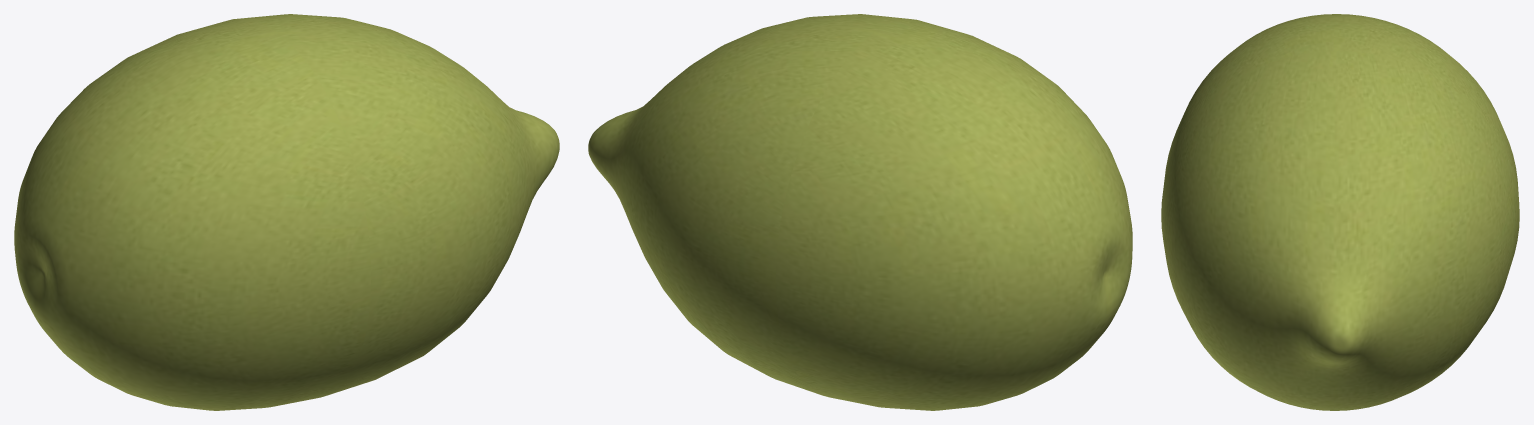
File: LimePeel.obj
The picture shows the model from 3 angles, left to right: view 1: azimuth 30°, elevation 25°; view 2: azimuth 150°, elevation 25°; view 3: azimuth 270°, elevation 25°; orthographic projection. The views are drawn at different scales.
Visible parts, largest first — view 1: LimePeel; view 2: LimePeel; view 3: LimePeel.
Part boxes in pixels (left/top/right/bottom): LimePeel: left=14, top=14, right=559, bottom=410; LimePeel: left=588, top=14, right=1132, bottom=410; LimePeel: left=1161, top=14, right=1519, bottom=410.
Bounding box in the file's own units: 0.0895 × 0.0582 × 0.0577.
1 material, 1 textured.
